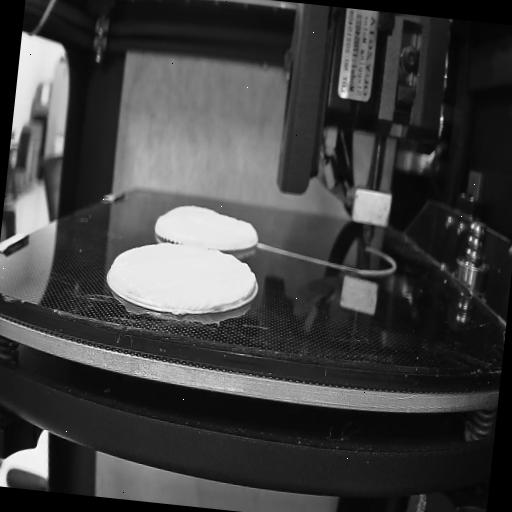over_extrusion: (240, 269, 258, 300)
